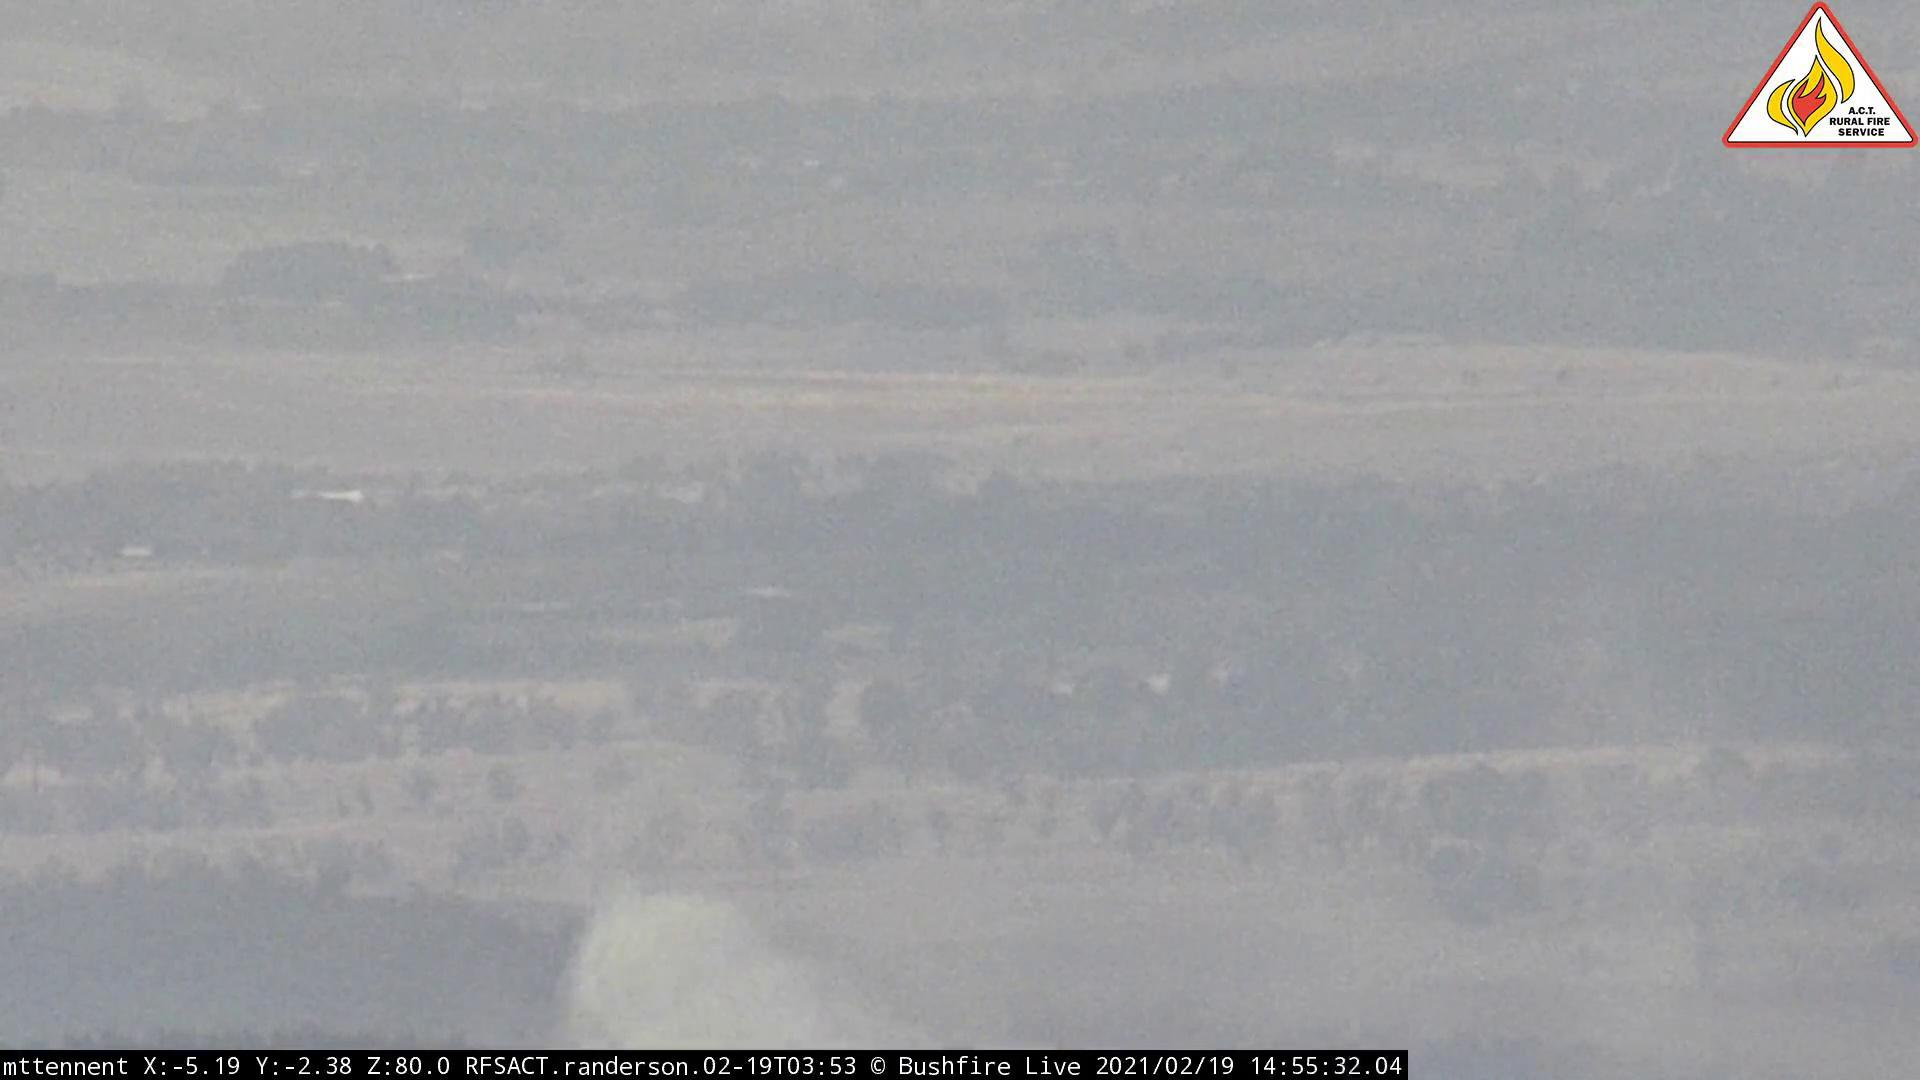instance_salient_object: (550, 858, 882, 1047)
